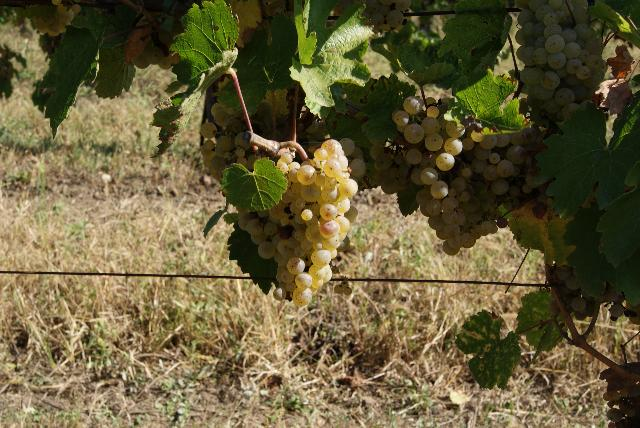grapes: (284, 139, 358, 305), (515, 0, 606, 126), (371, 96, 462, 194)
